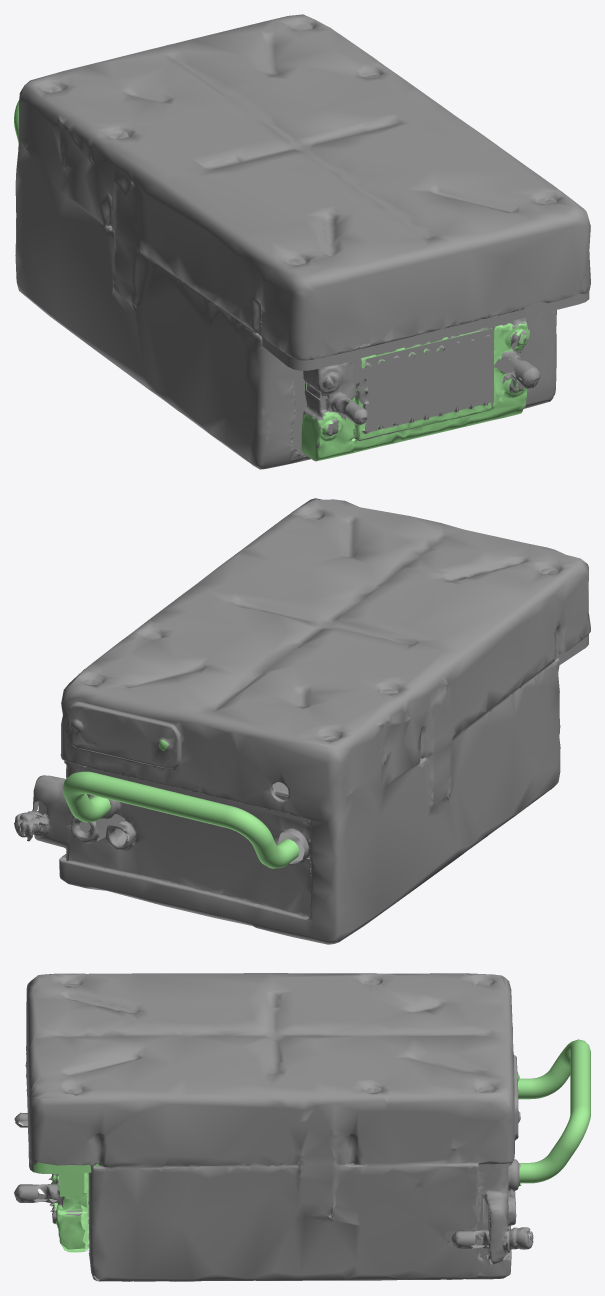
3 views of the same model, one above another, from view 1: azimuth 30°, elevation 25°; view 2: azimuth 150°, elevation 25°; view 3: azimuth 270°, elevation 25° (orthographic). The views are drawn at different scales.
Visible parts, largest first — view 1: obj5; view 2: obj5; view 3: obj5.
Boxes of the visible parts, <box> form: obj5: <box>14,14,590,469</box>; obj5: <box>14,498,590,944</box>; obj5: <box>14,973,590,1281</box>.
Size of the model in its own units: 0.0925 by 0.0575 by 0.159.
